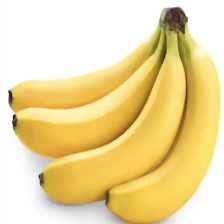banana: (25, 40, 180, 224)
